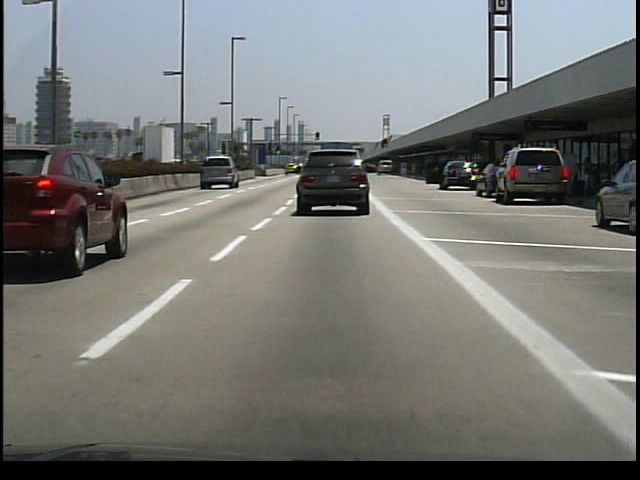person: (578, 154, 594, 196)
